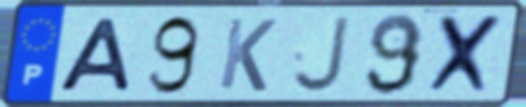9: (363, 12, 424, 97), (145, 14, 203, 97)
A: (52, 16, 136, 94)
J: (288, 13, 352, 95)
K: (215, 15, 280, 94)
X: (423, 12, 509, 96)
